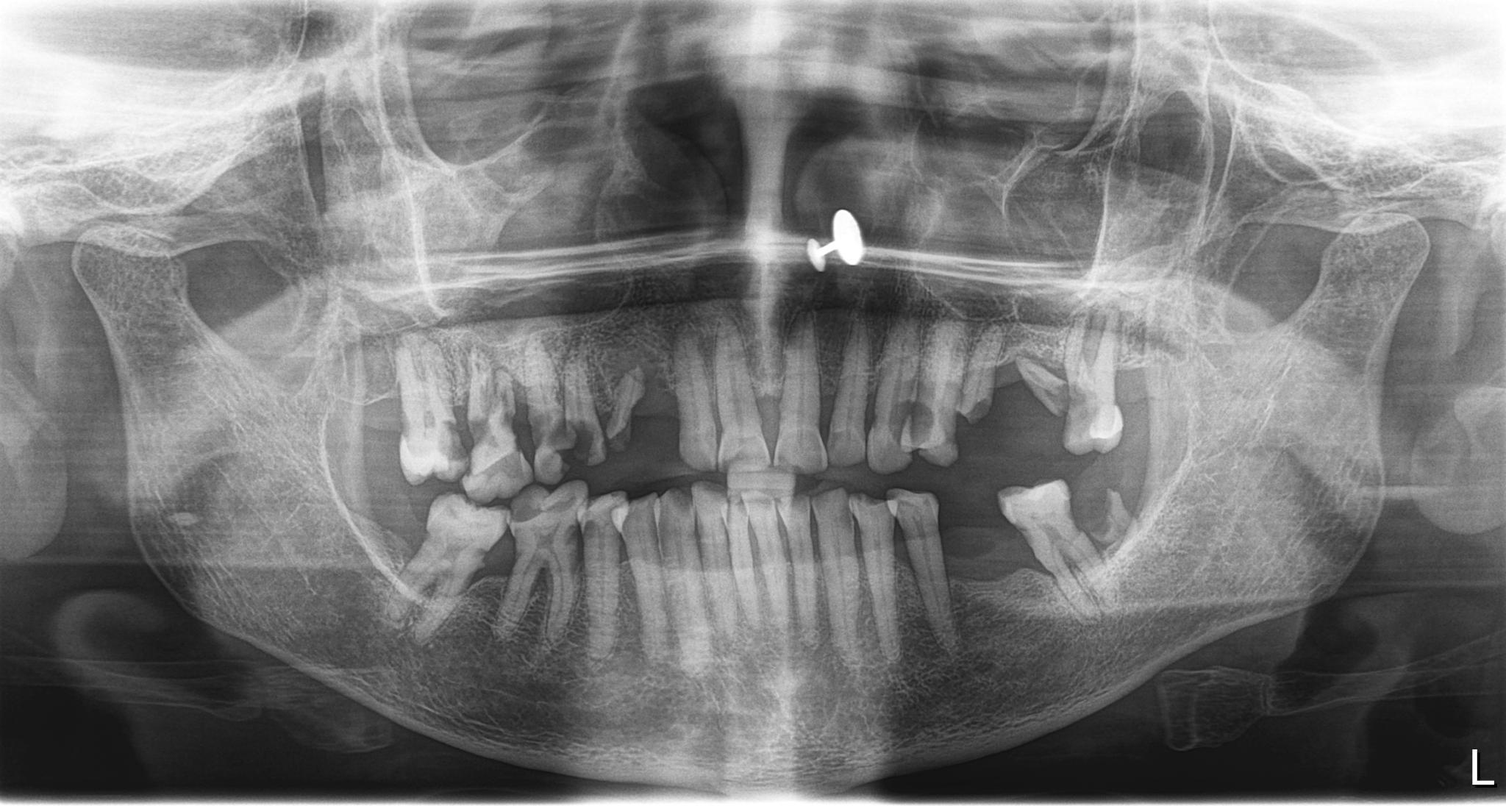Dental Caries: (882, 373, 957, 460), (550, 419, 611, 477), (1058, 403, 1100, 452)
Missing Tooth: (939, 507, 1026, 632)
Periapical Lesion: (1070, 283, 1135, 397)
Periodontal Pocket: (471, 524, 542, 602)
Retained Root: (1074, 474, 1164, 582), (616, 322, 671, 469), (940, 314, 1005, 435), (1011, 320, 1064, 432)
Tooth Fracture: (443, 351, 535, 501)
